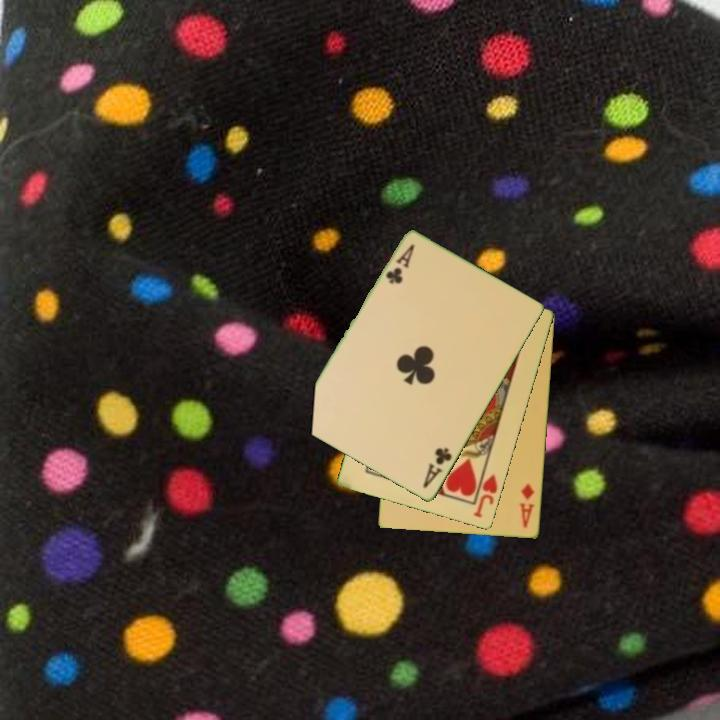Ac: (419, 444, 455, 491), (382, 241, 418, 287)
Ad: (516, 481, 538, 531)
Jh: (470, 471, 501, 521)
